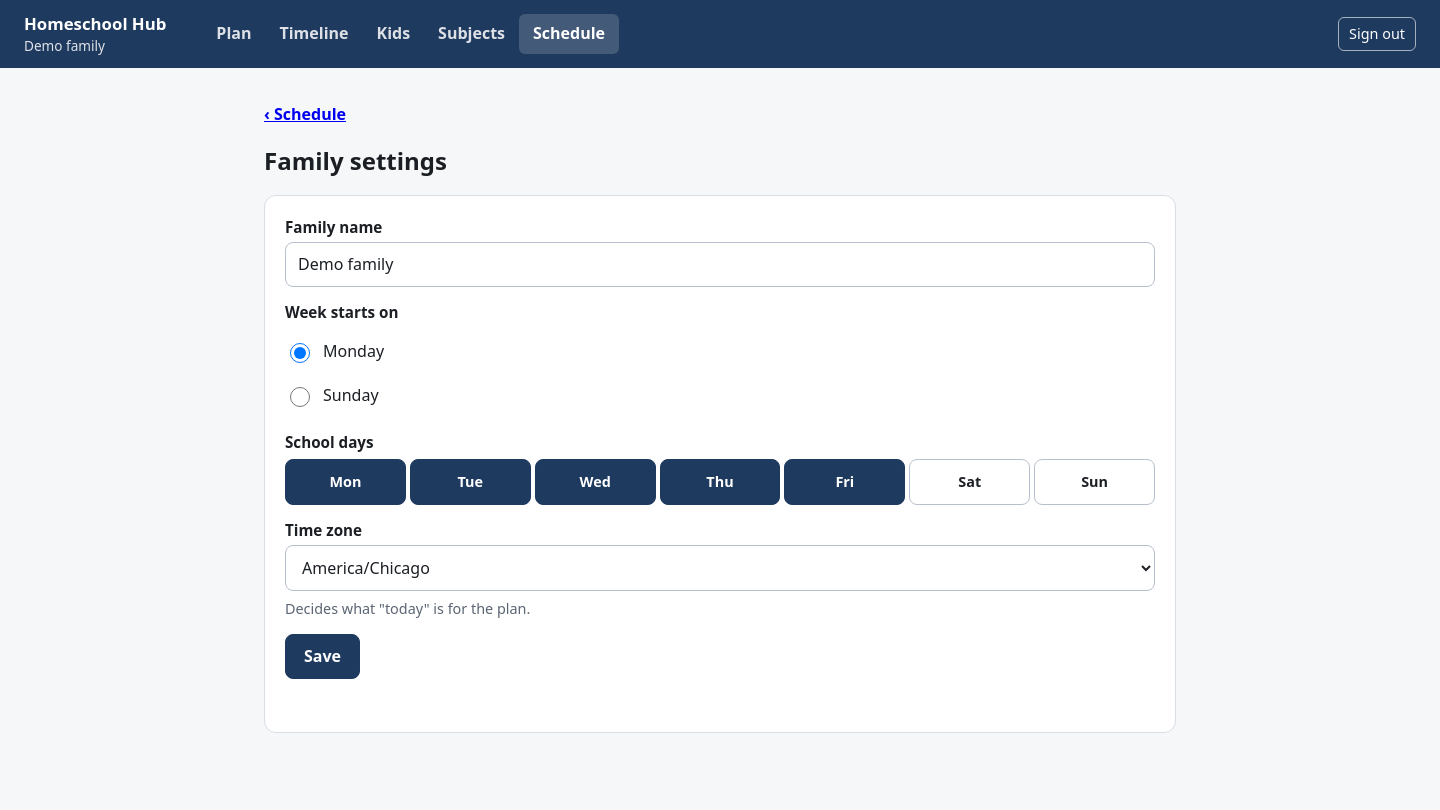
Test: Family settings form › submits only changed fields, then shows Saved
Expected: the form named "Family settings" is shown, [264, 195, 1176, 733]
Click the checkbox named "Friday" at (845, 482), box [784, 459, 905, 505]
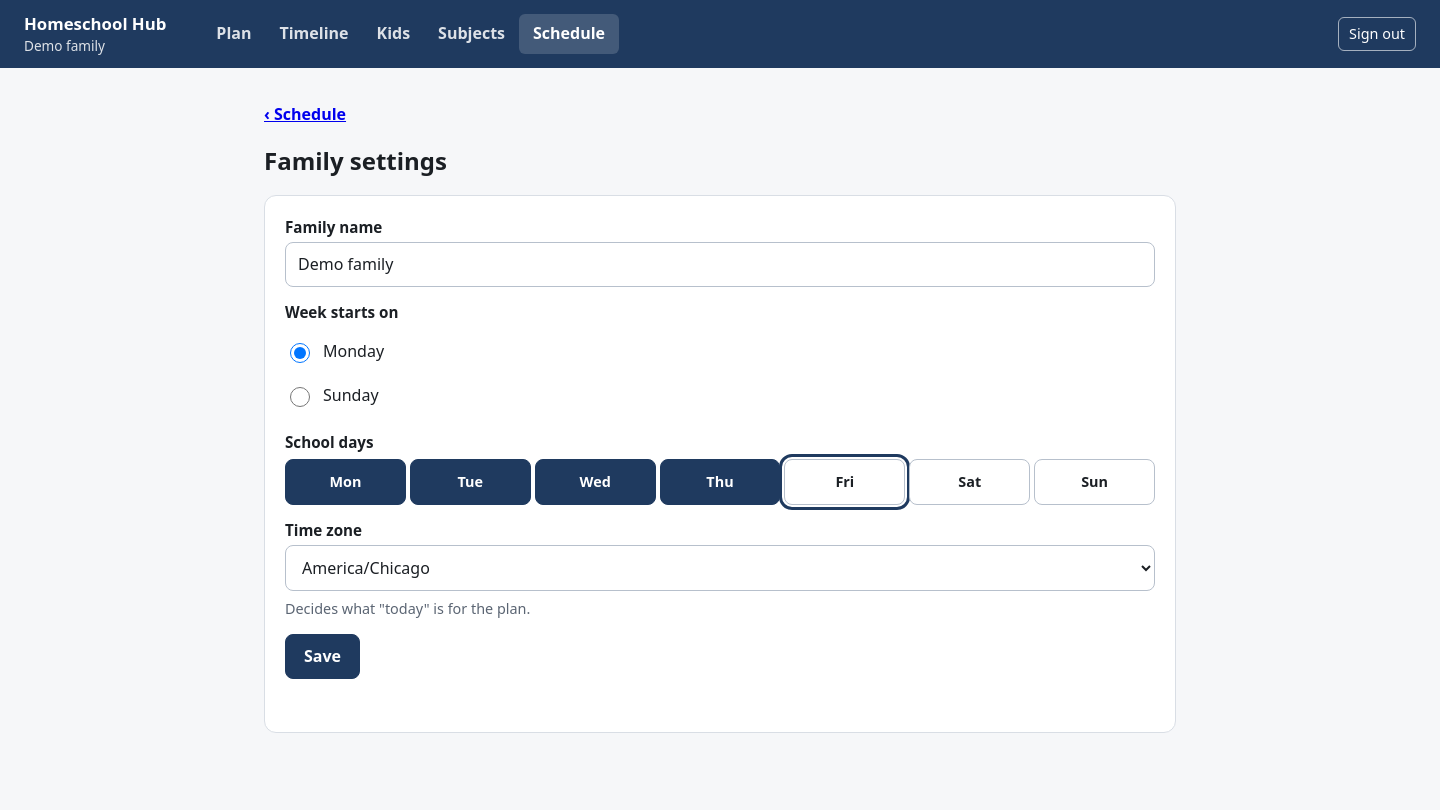
Click the radio button labelled "Sunday" at (300, 397), box [290, 387, 310, 407]
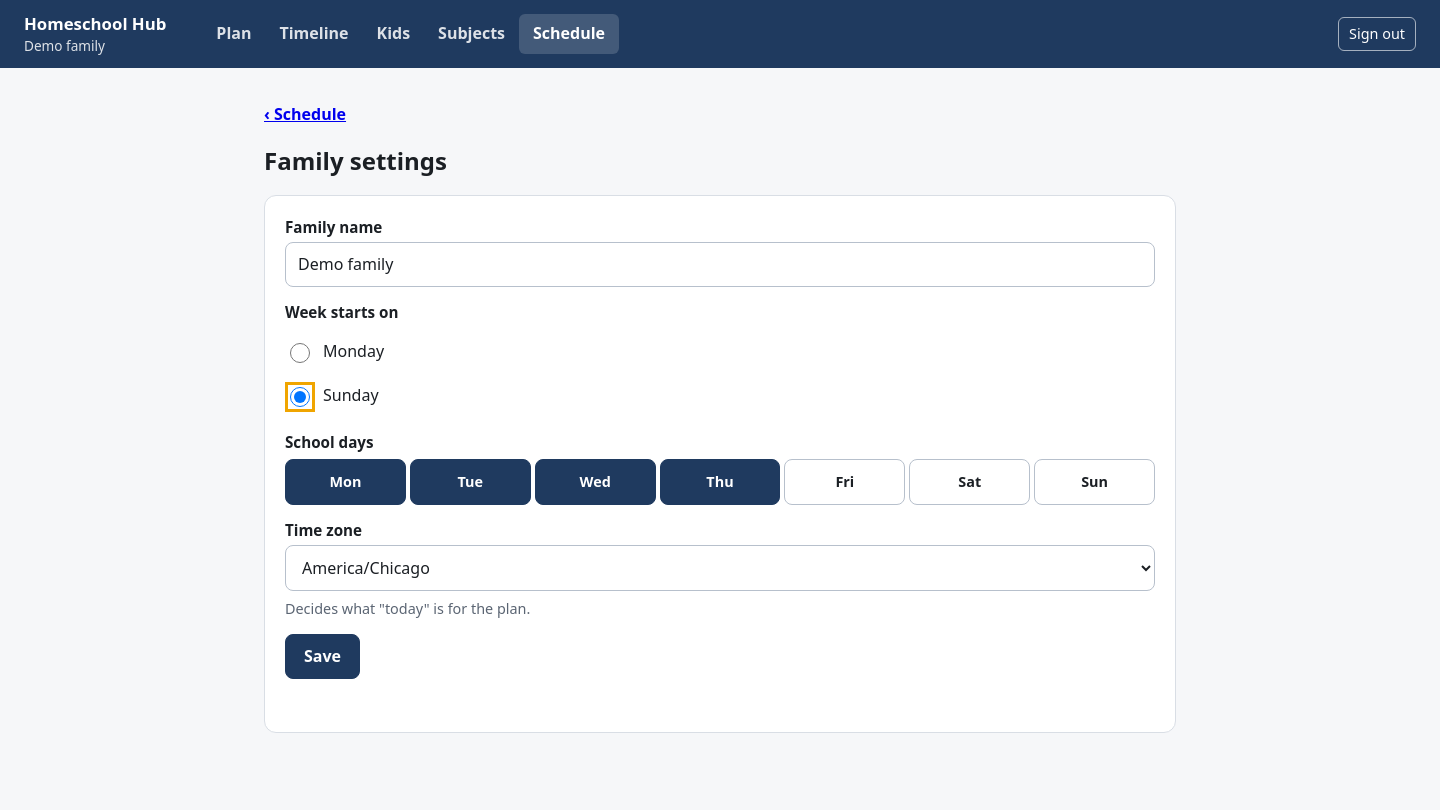
Click the button "Save" at (322, 657), box [285, 634, 360, 679]
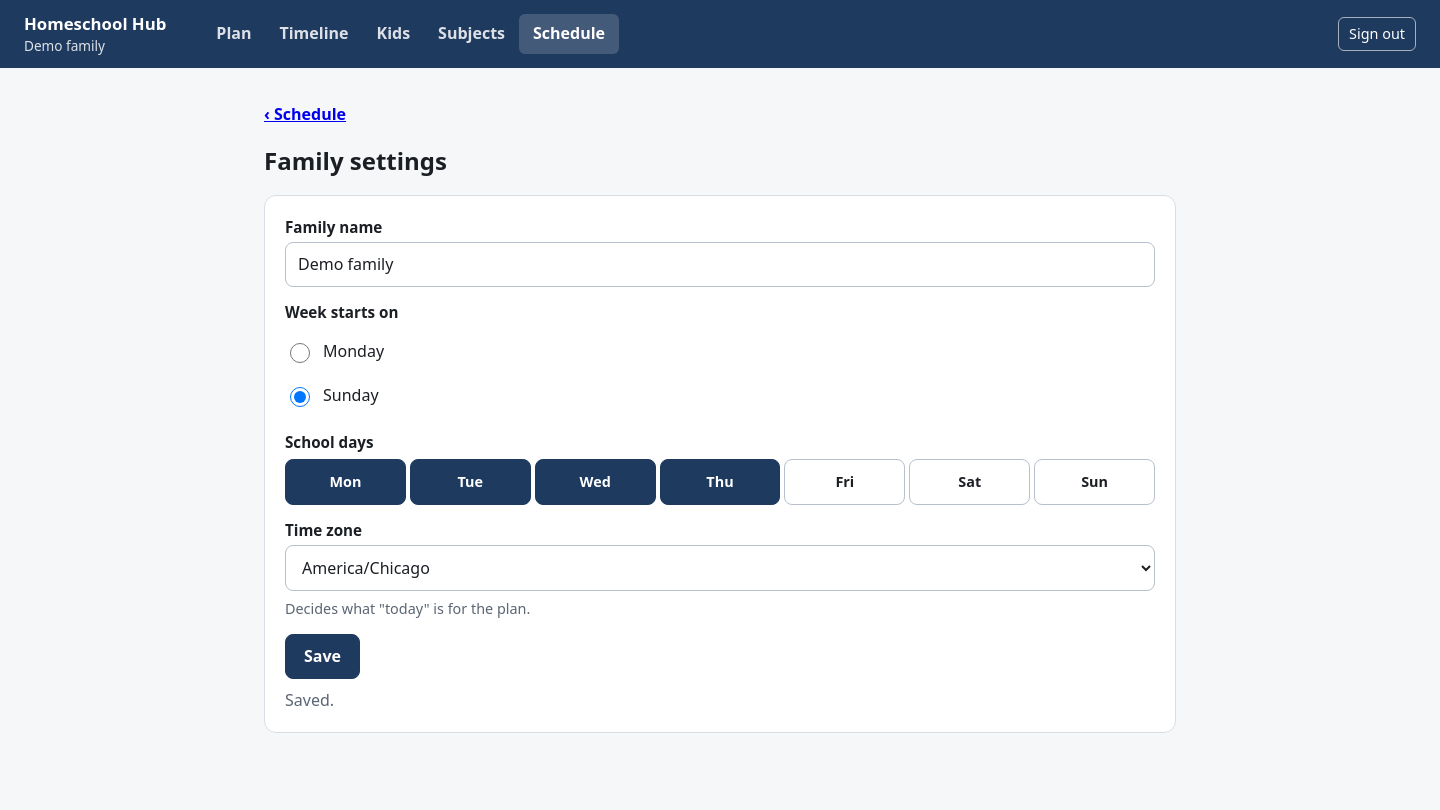
Now the text "Saved." is shown, box [285, 689, 334, 711]
